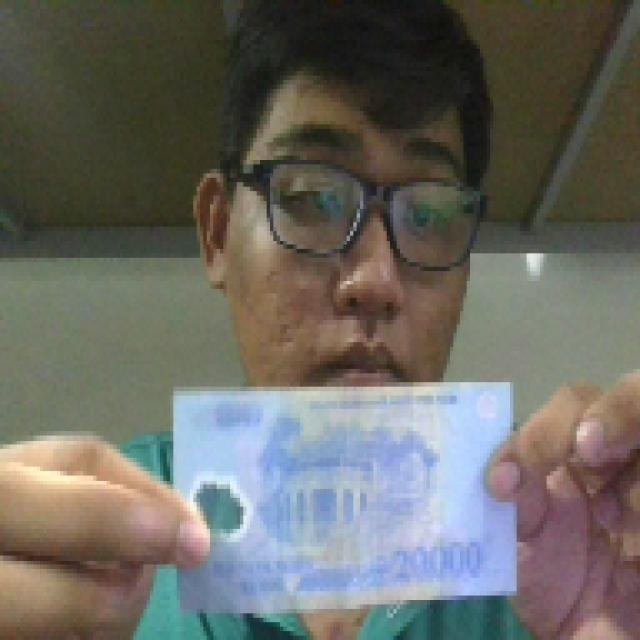20 000 VND: (167, 373, 523, 622)
